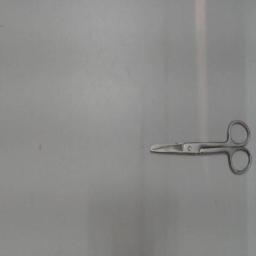Dressing Scissors: (146, 116, 256, 182)
